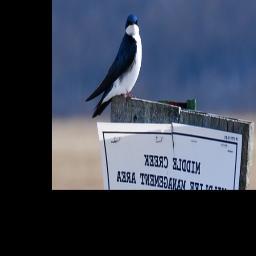Swallow: (86, 12, 143, 118)
